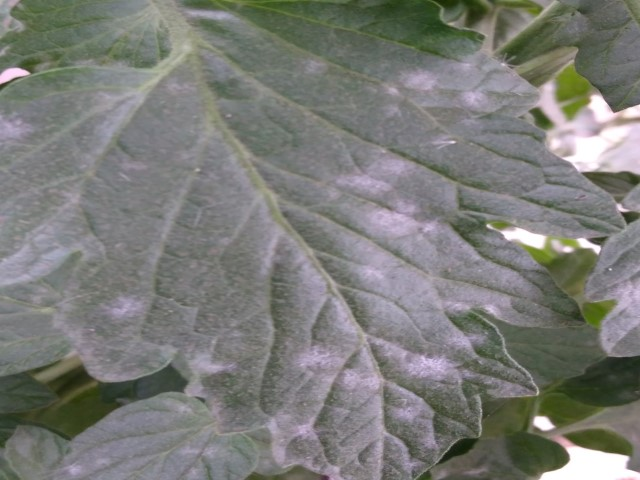oidio: (328, 151, 425, 198), (343, 198, 435, 246), (304, 342, 375, 391), (403, 351, 455, 386), (108, 288, 143, 319), (403, 67, 436, 93), (463, 88, 489, 106)
